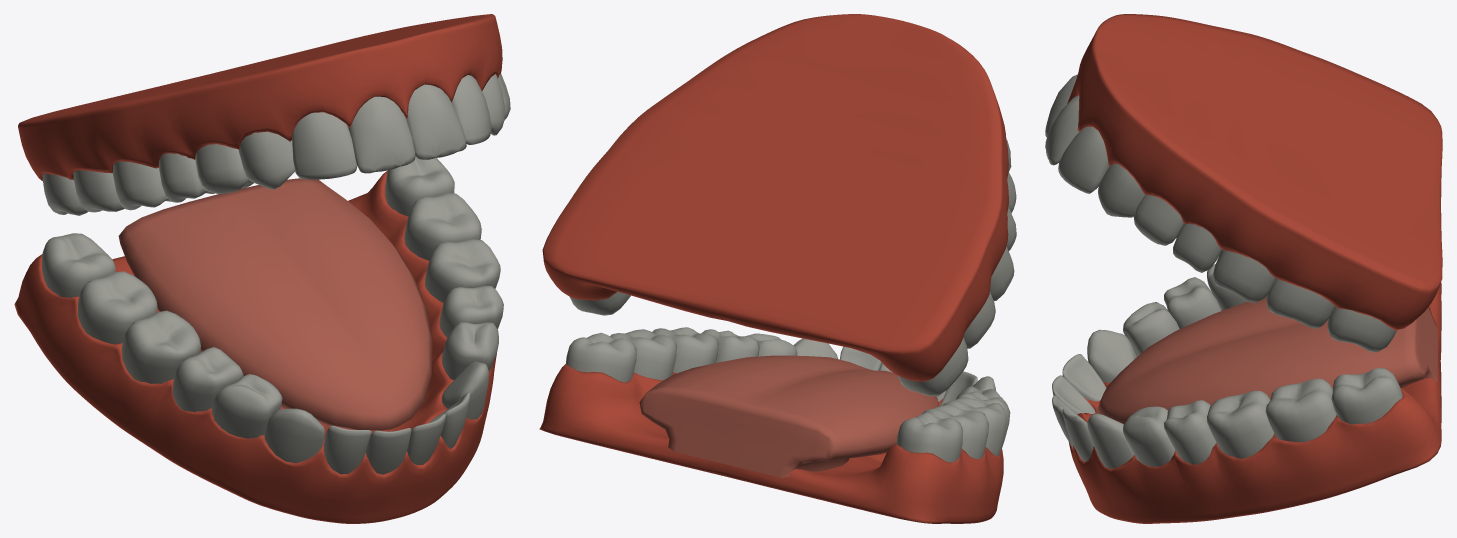
The model's file is ISO_adult_whole_mouth.glb.
3 views of the same model, side by side, from view 1: azimuth 30°, elevation 25°; view 2: azimuth 150°, elevation 25°; view 3: azimuth 270°, elevation 25° (orthographic). The views are drawn at different scales.
Parts seen in each view (by area): view 1: tongue, lower_jaw, upper_jaw, t_46, t_47, t_11, t_12, t_37, t_48, t_36, t_21, t_44 (+18 smaller); view 2: upper_jaw, tongue, lower_jaw, t_38, t_48, t_37, t_36, t_47, t_18, t_46, t_35, t_17 (+5 smaller); view 3: upper_jaw, lower_jaw, tongue, t_37, t_36, t_38, t_35, t_22, t_34, t_26, t_27, t_28 (+13 smaller).
Part boxes in pixels (bbox=[...]): tongue: bbox=[118, 178, 432, 430]; lower_jaw: bbox=[14, 170, 496, 523]; upper_jaw: bbox=[18, 14, 502, 180]; t_46: bbox=[121, 310, 200, 383]; t_47: bbox=[77, 271, 157, 344]; t_11: bbox=[348, 96, 415, 173]; t_12: bbox=[292, 112, 357, 179]; t_37: bbox=[404, 193, 481, 260]; t_48: bbox=[42, 233, 115, 297]; t_36: bbox=[425, 239, 500, 302]; t_21: bbox=[406, 84, 466, 159]; t_44: bbox=[211, 374, 282, 438]; upper_jaw: bbox=[542, 14, 1008, 381]; tongue: bbox=[639, 355, 939, 477]; lower_jaw: bbox=[539, 364, 1003, 523]; t_38: bbox=[566, 332, 636, 382]; t_48: bbox=[896, 412, 962, 462]; t_37: bbox=[610, 329, 676, 380]; t_36: bbox=[652, 327, 718, 373]; t_47: bbox=[922, 404, 988, 459]; t_18: bbox=[897, 337, 968, 396]; t_46: bbox=[942, 397, 1006, 455]; t_35: bbox=[702, 329, 759, 362]; t_17: bbox=[963, 292, 995, 348]; upper_jaw: bbox=[1067, 14, 1442, 329]; lower_jaw: bbox=[1069, 282, 1441, 523]; tongue: bbox=[1096, 295, 1437, 423]; t_37: bbox=[1265, 378, 1336, 442]; t_36: bbox=[1207, 390, 1274, 458]; t_38: bbox=[1331, 368, 1402, 424]; t_35: bbox=[1164, 400, 1216, 464]; t_22: bbox=[1058, 126, 1109, 193]; t_34: bbox=[1123, 406, 1175, 466]; t_26: bbox=[1213, 250, 1275, 303]; t_27: bbox=[1266, 278, 1335, 328]; t_28: bbox=[1327, 306, 1396, 352].
Size of the model in its own units: 3.08 by 3.39 by 2.73.
